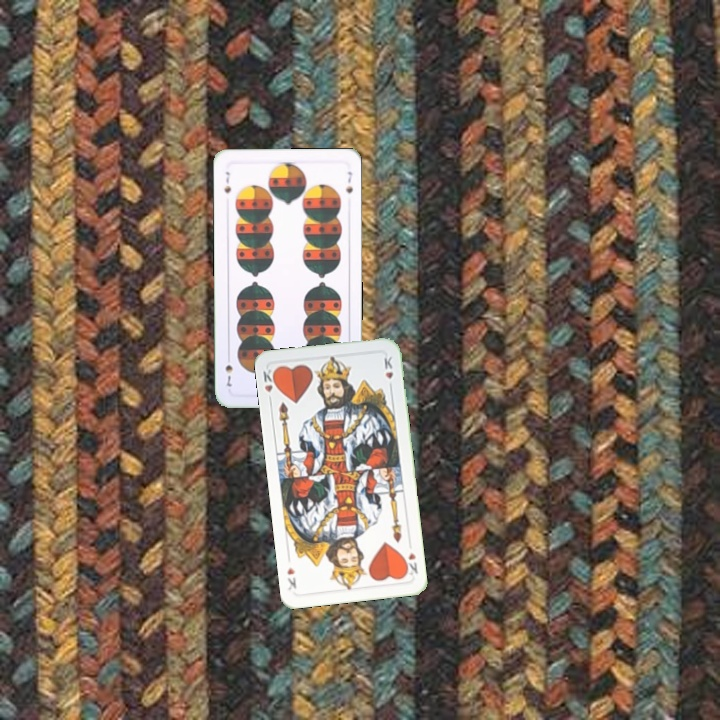HK: (259, 364, 280, 405), (400, 548, 420, 580)
S7: (220, 168, 233, 196)
